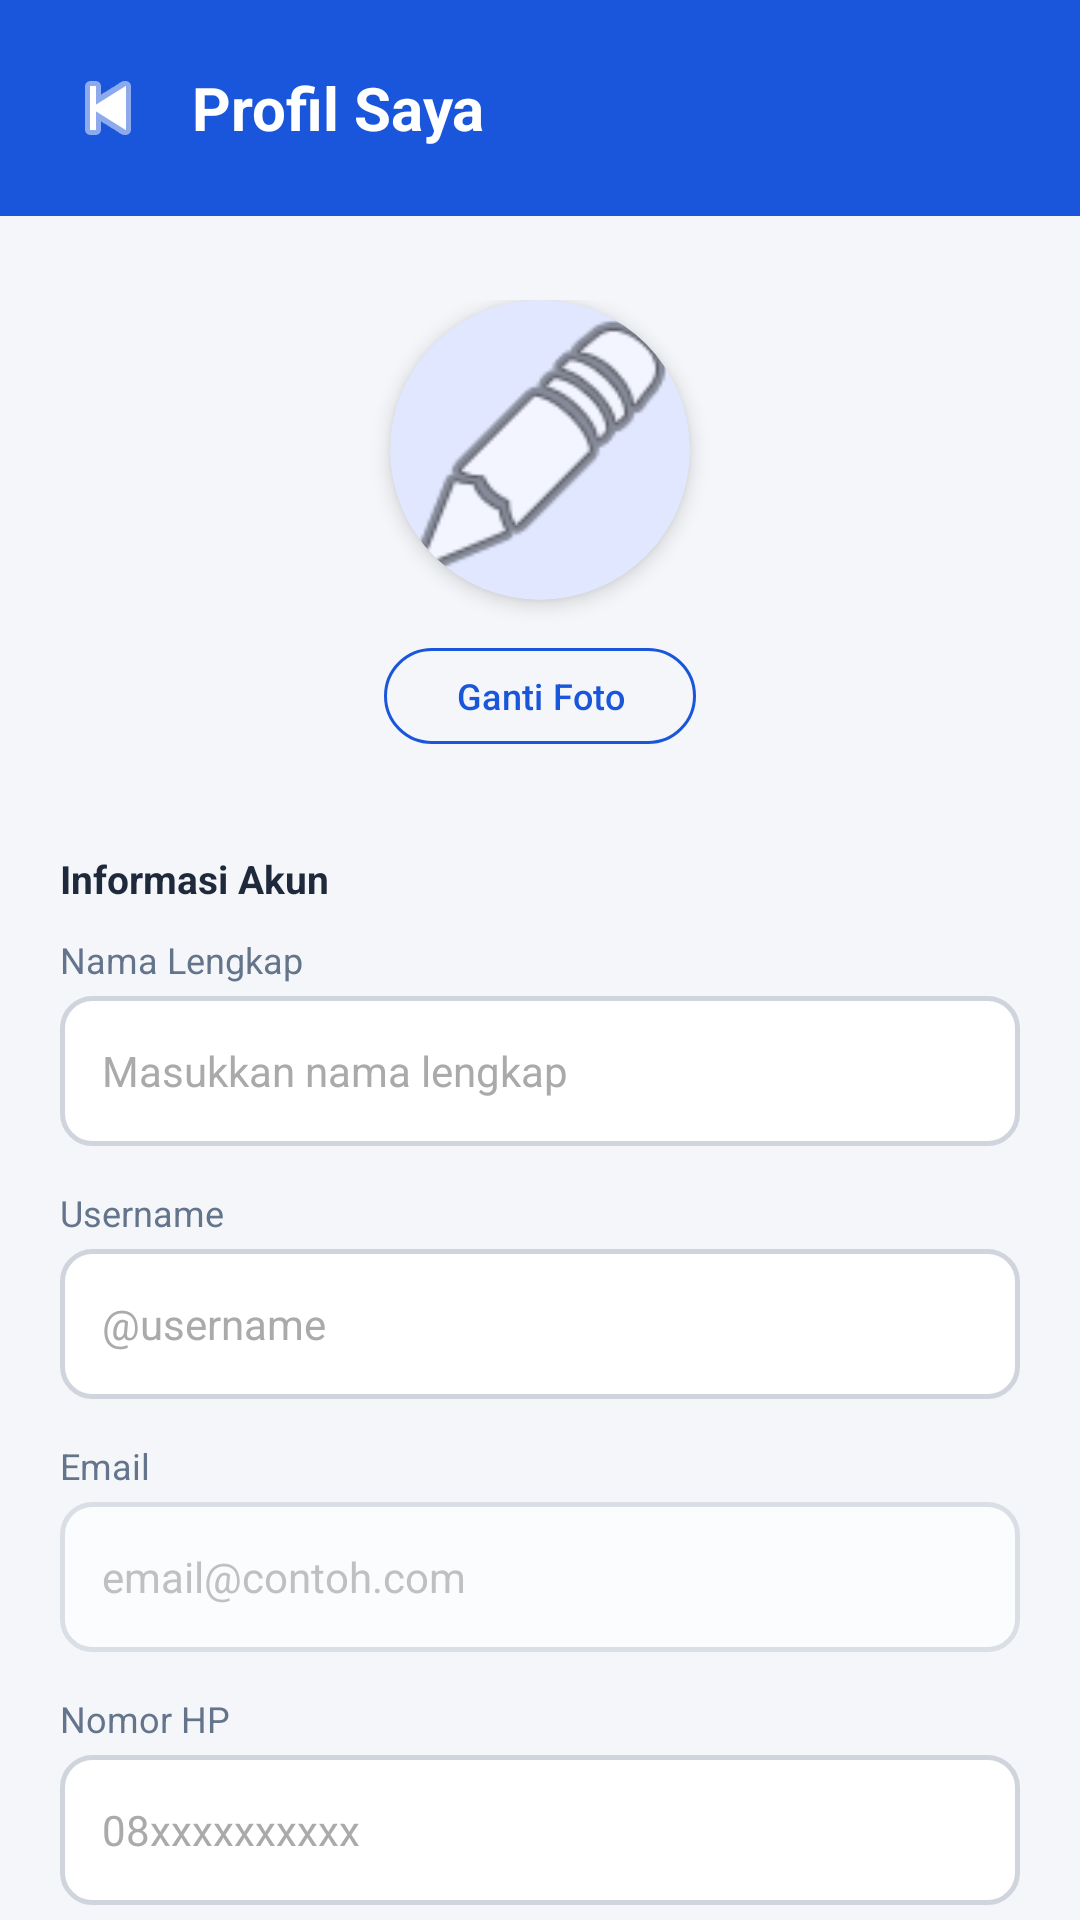

Icons on this 1080w x 1920h Android screen, each with the point to tap as (x=x, y=y):
Kembali: (x=108, y=108)
